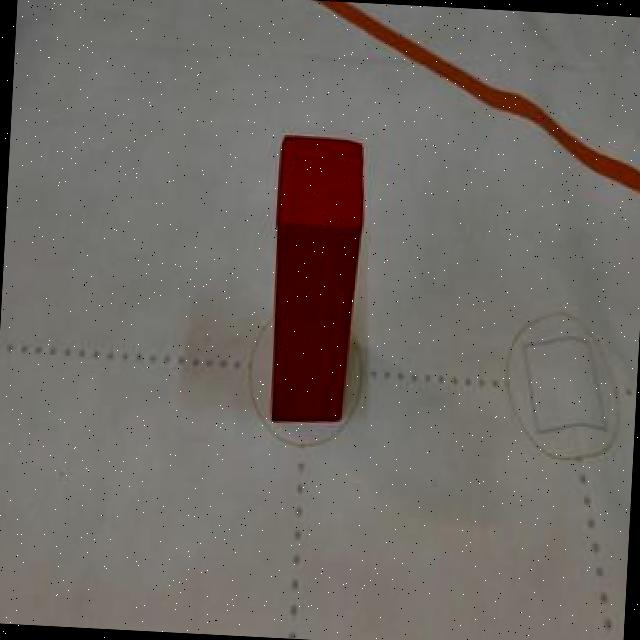redbox: (262, 130, 368, 428)
